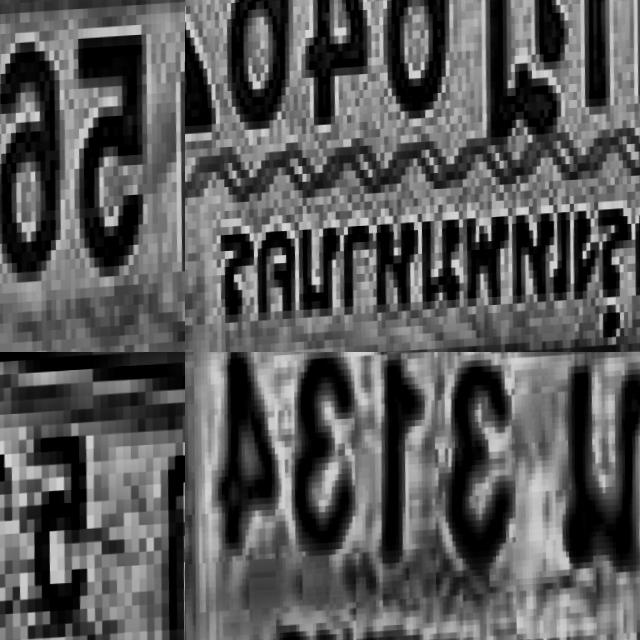license-plate: (185, 0, 640, 352), (185, 352, 640, 640), (0, 0, 185, 352), (0, 352, 185, 640)
